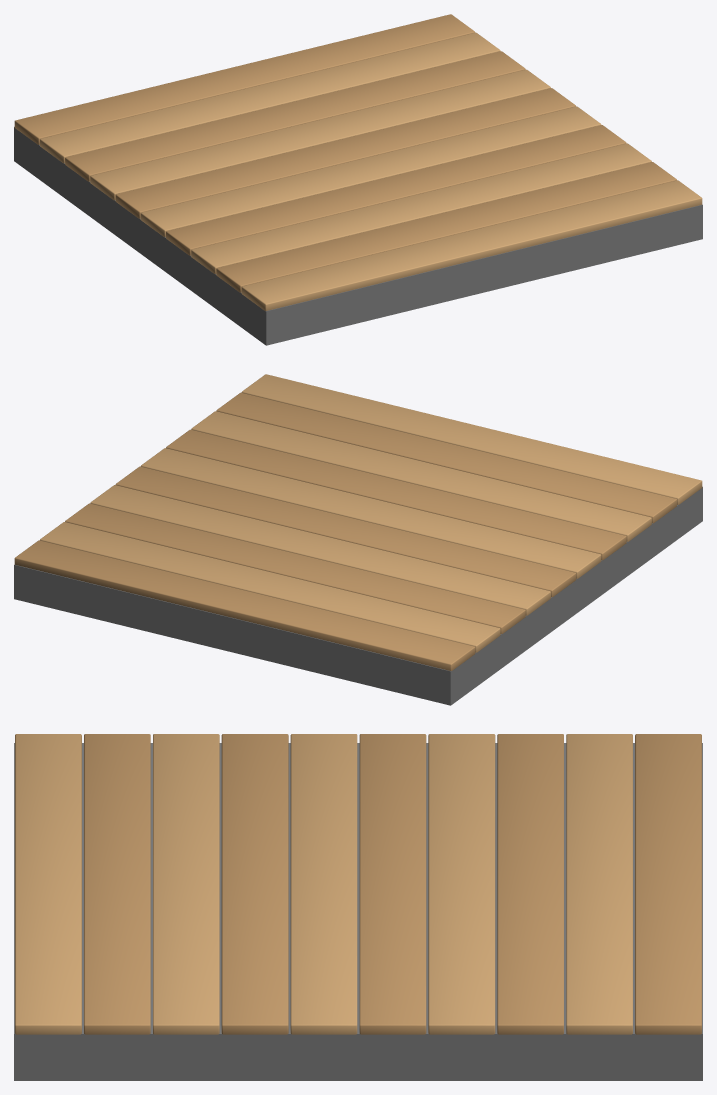
The model's file is Floor_Wood_2m.fbx.
The picture shows the model from 3 angles, top to bottom: view 1: azimuth 30°, elevation 25°; view 2: azimuth 150°, elevation 25°; view 3: azimuth 270°, elevation 25°; orthographic projection. The views are drawn at different scales.
Parts seen in each view (by area): view 1: Floor_Wood_2m; view 2: Floor_Wood_2m; view 3: Floor_Wood_2m.
Boxes of the visible parts, x1,y1,x2,y2 form: Floor_Wood_2m: [14, 14, 702, 345]; Floor_Wood_2m: [14, 374, 702, 705]; Floor_Wood_2m: [14, 734, 702, 1080].
Bounding box in the file's own units: 2 × 2 × 0.18.
